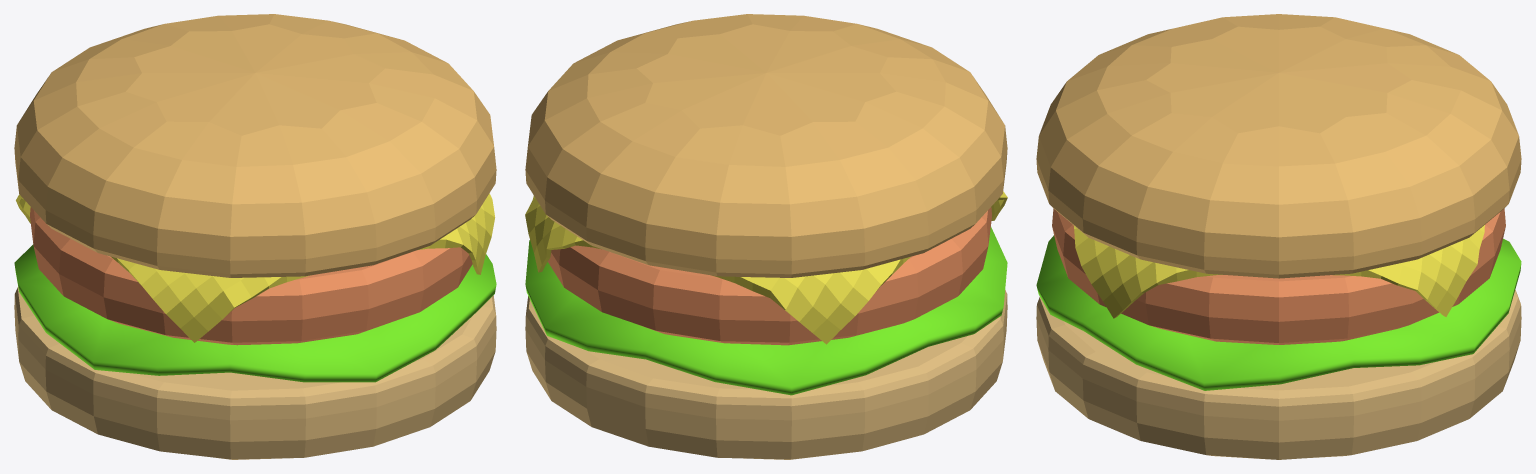
Rendered from Burger.fbx.
3 renders of one model, left to right at view 1: azimuth 30°, elevation 25°; view 2: azimuth 150°, elevation 25°; view 3: azimuth 270°, elevation 25°, orthographic.
Visible parts, largest first — view 1: Circle.003, Circle, Circle.002, Circle.001, Plane; view 2: Circle.003, Circle, Circle.002, Circle.001, Plane; view 3: Circle.003, Circle, Circle.001, Circle.002, Plane.
Boxes of the visible parts, x1,y1,x2,y2 form: Circle.003: (14, 14, 496, 277); Circle: (14, 287, 496, 459); Circle.002: (30, 207, 472, 345); Circle.001: (14, 244, 496, 382); Plane: (16, 193, 495, 342); Circle.003: (525, 14, 1007, 277); Circle: (525, 290, 1007, 459); Circle.002: (548, 207, 991, 345); Circle.001: (525, 227, 1007, 395); Plane: (525, 191, 1007, 344); Circle.003: (1036, 14, 1521, 278); Circle: (1036, 290, 1521, 459); Circle.001: (1036, 235, 1521, 390); Circle.002: (1052, 208, 1505, 344); Plane: (1073, 225, 1484, 318).
Size of the model in its own units: 18.72 by 12.67 by 18.73.
